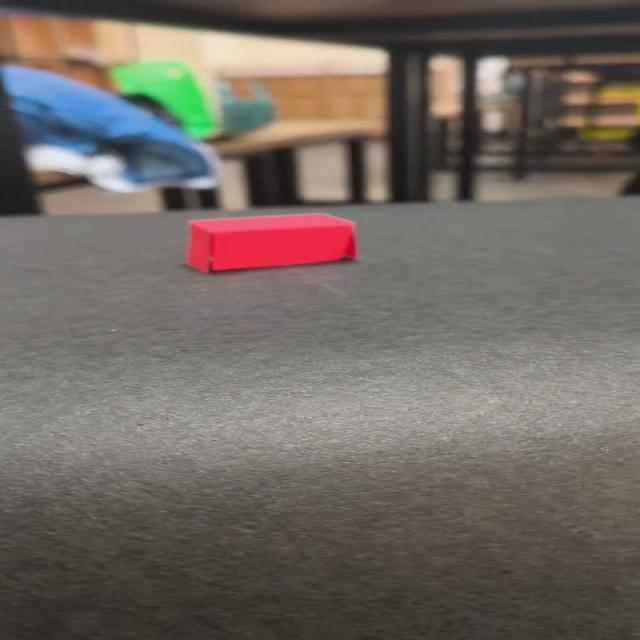red block: (184, 212, 357, 273)
